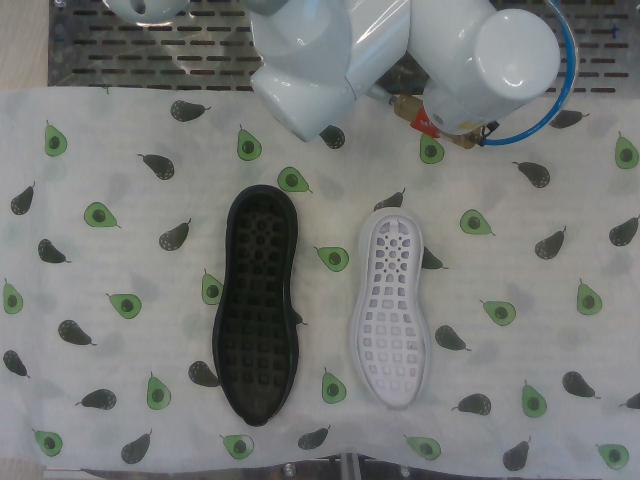shoes: (217, 193, 290, 426), (357, 214, 426, 411)
